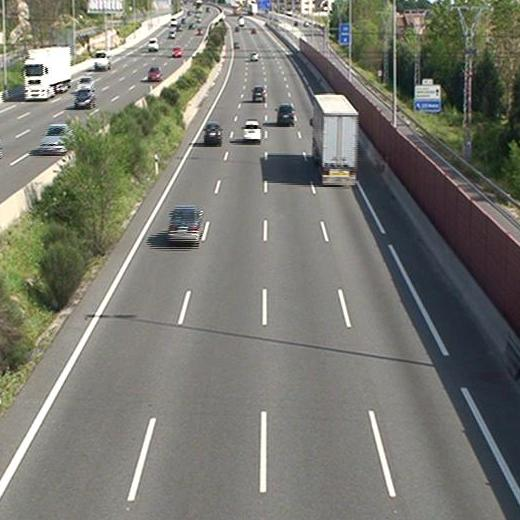car: (169, 208, 203, 243), (203, 123, 222, 144), (242, 121, 261, 141), (278, 103, 293, 125), (252, 87, 265, 102), (249, 52, 258, 61)
truck: (312, 94, 358, 187)
